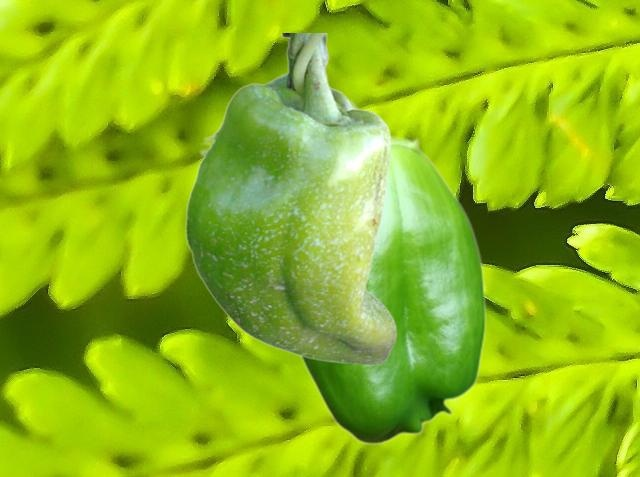bell_pepper: (184, 33, 396, 364), (298, 93, 486, 444)
